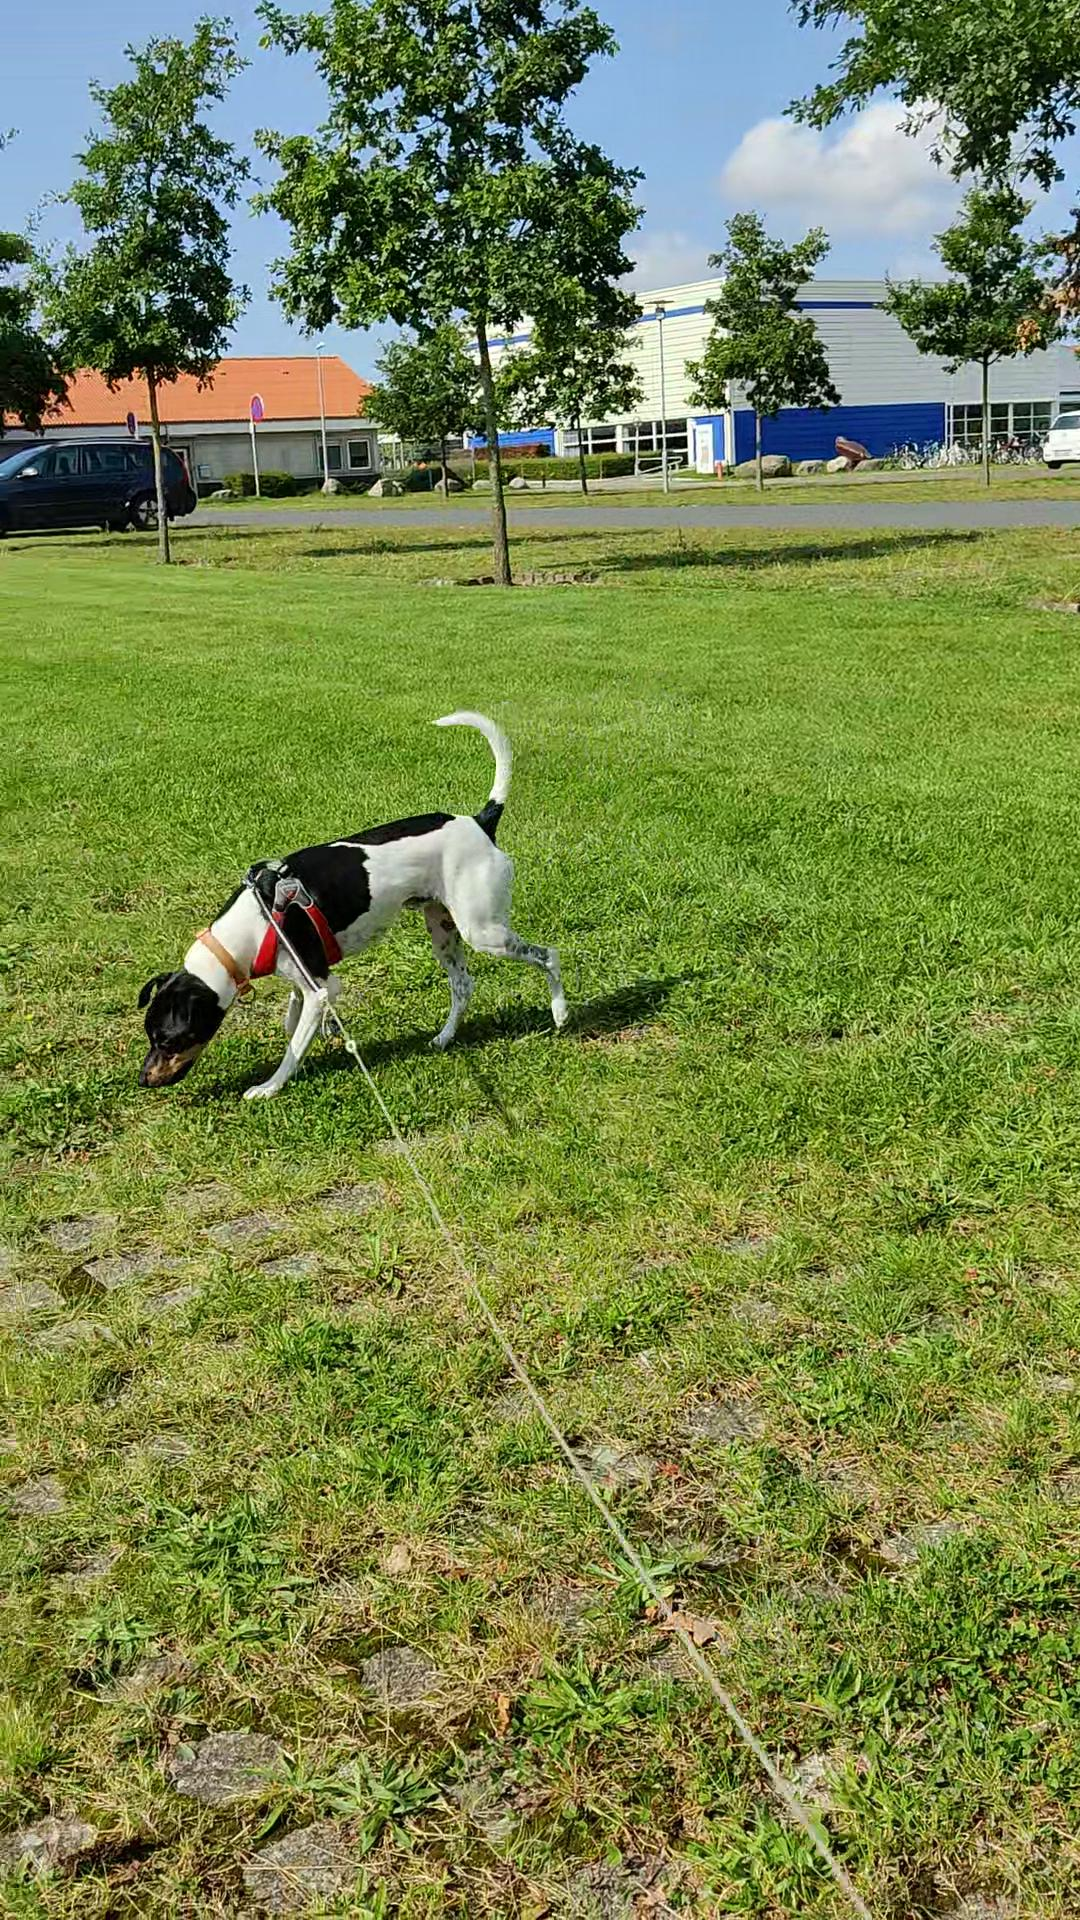Dog: (133, 703, 574, 1104)
